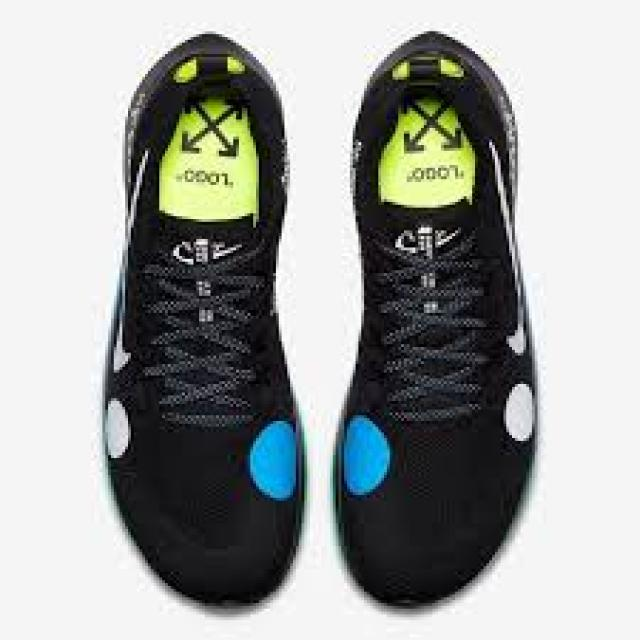shoe: (330, 31, 540, 612), (100, 31, 304, 609)
